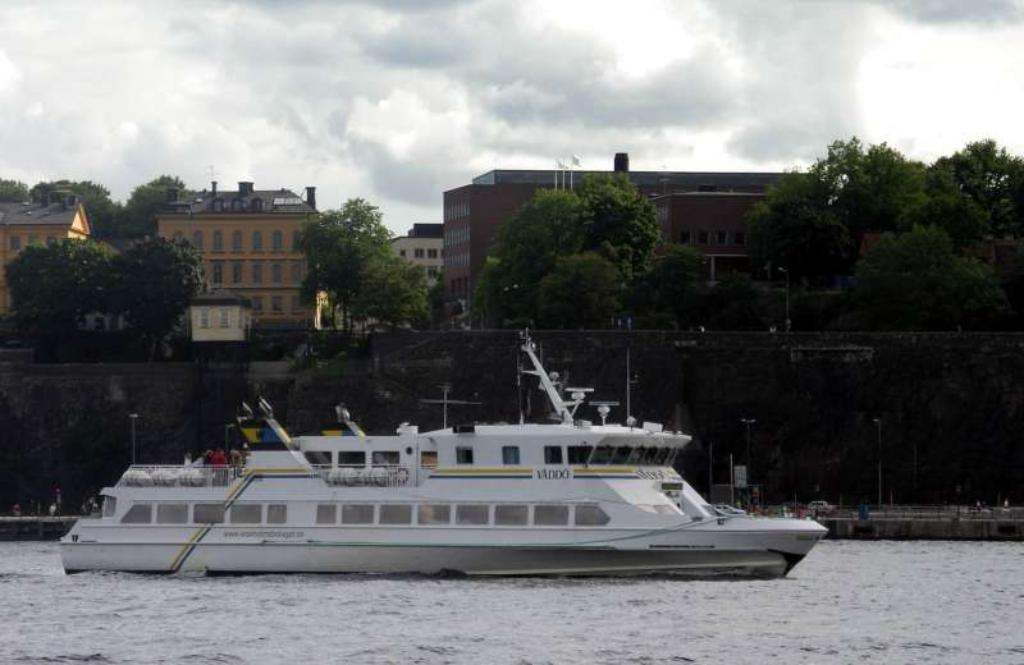PassengerShip: (54, 360, 836, 588)
